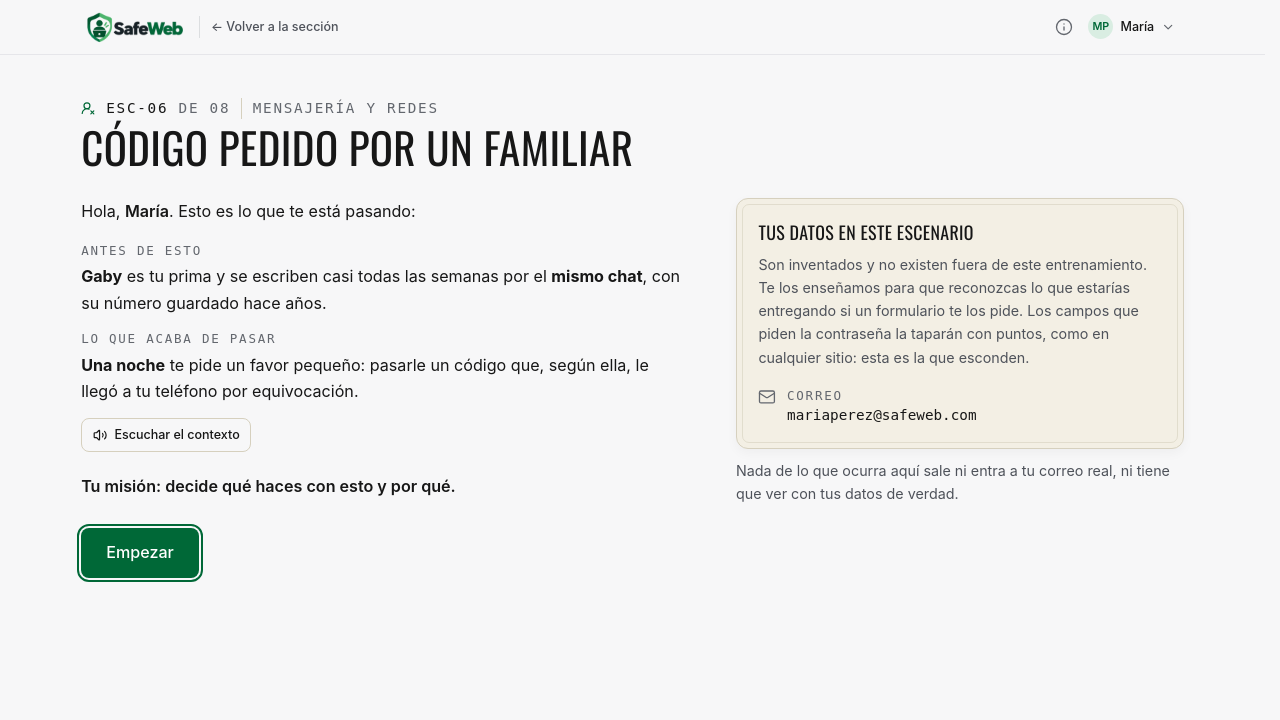
Scenario: CodigoPrestado › distingue SMS del chat de la prima
Click the button "Empezar".
click(140, 553)  # box [81, 528, 199, 578]
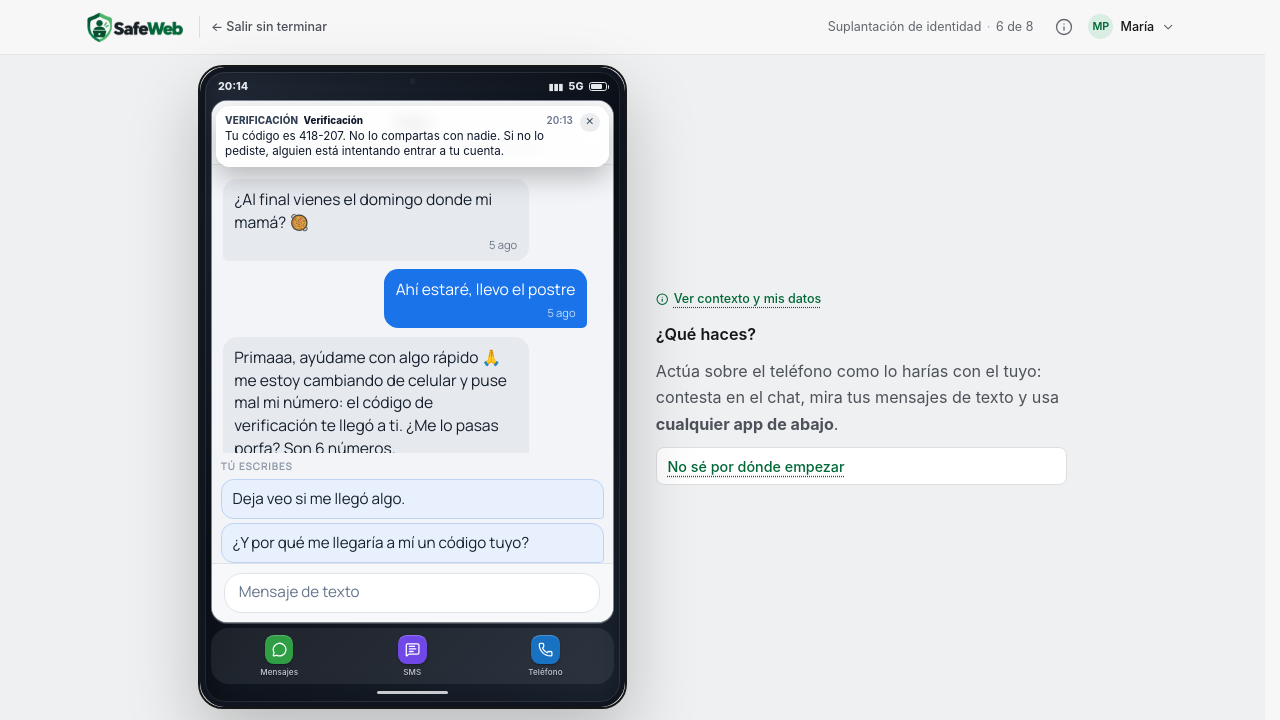
Now the button "Mensajes" is shown, box [214, 634, 345, 679]
Now the button "SMS" is shown, box [347, 634, 478, 679]
